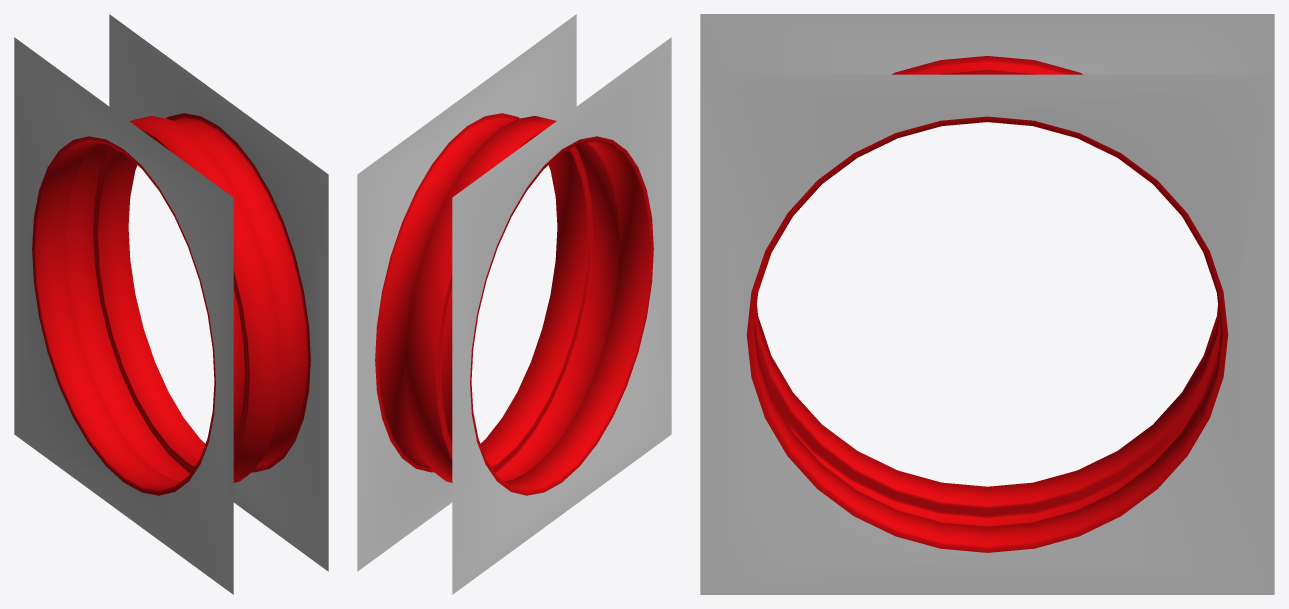
File: Wall_VaultDoor_4m.fbx
3 views of the same model, side by side, from view 1: azimuth 30°, elevation 25°; view 2: azimuth 150°, elevation 25°; view 3: azimuth 270°, elevation 25° (orthographic). The views are drawn at different scales.
Parts seen in each view (by area): view 1: Wall_VaultDoor_4m; view 2: Wall_VaultDoor_4m; view 3: Wall_VaultDoor_4m.
Part boxes in pixels (x1,y1,x2,y2): Wall_VaultDoor_4m: [14, 14, 328, 594]; Wall_VaultDoor_4m: [357, 14, 671, 594]; Wall_VaultDoor_4m: [700, 14, 1274, 594].
Size of the model in its own units: 200 by 800 by 800.
